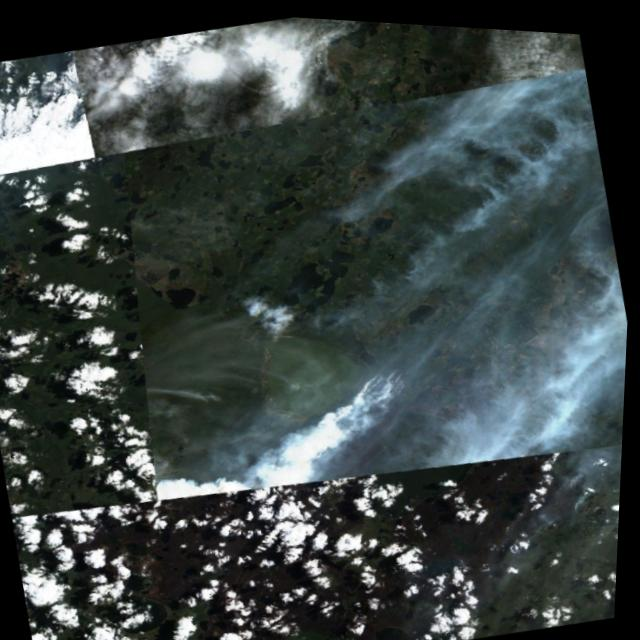fire: (257, 345, 440, 505)
